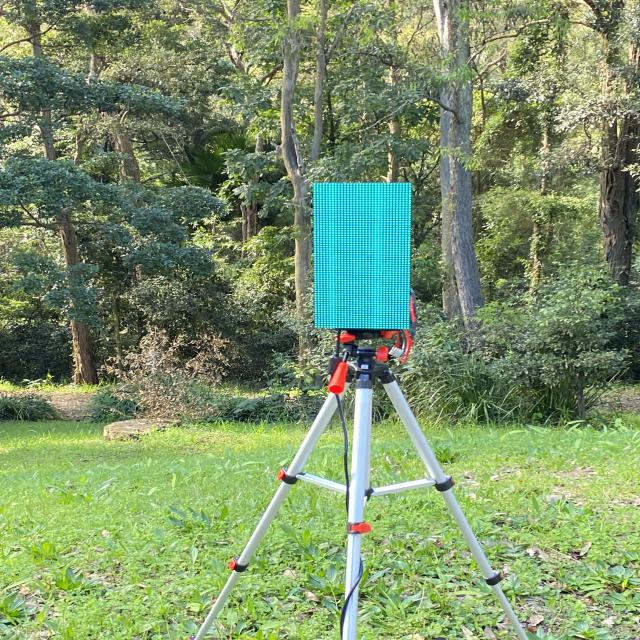matrix: (307, 177, 421, 333)
